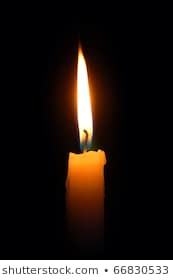Fire: (72, 39, 94, 152)
